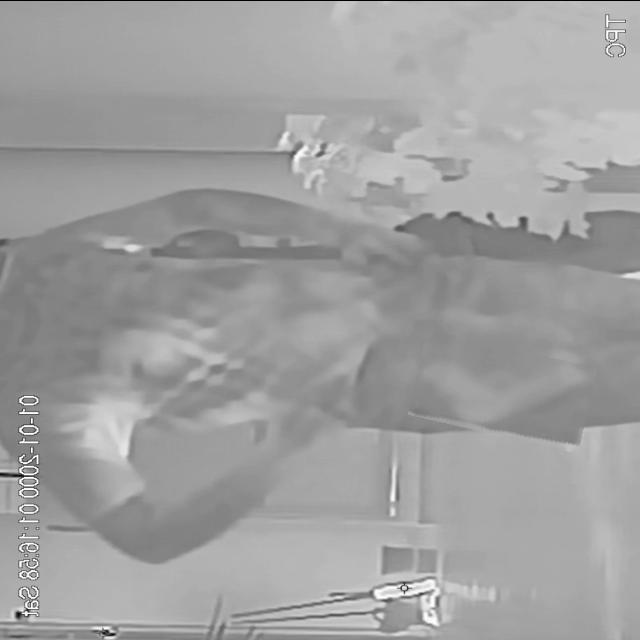Weapon: (412, 338, 594, 444)
